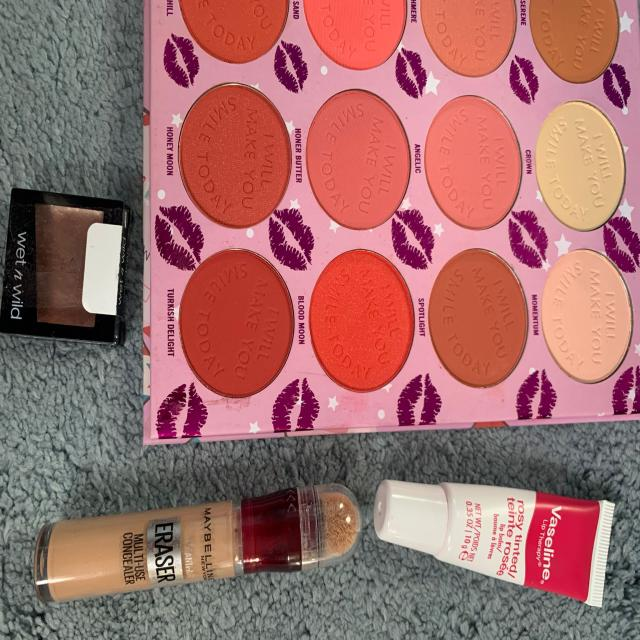blush: (298, 0, 526, 238), (310, 250, 414, 403)
bronzer: (166, 0, 296, 405), (0, 182, 132, 342), (413, 244, 536, 384), (523, 0, 622, 94)
concealer: (19, 474, 372, 612)
lip balm: (371, 461, 620, 626)
powder: (541, 94, 640, 399)
